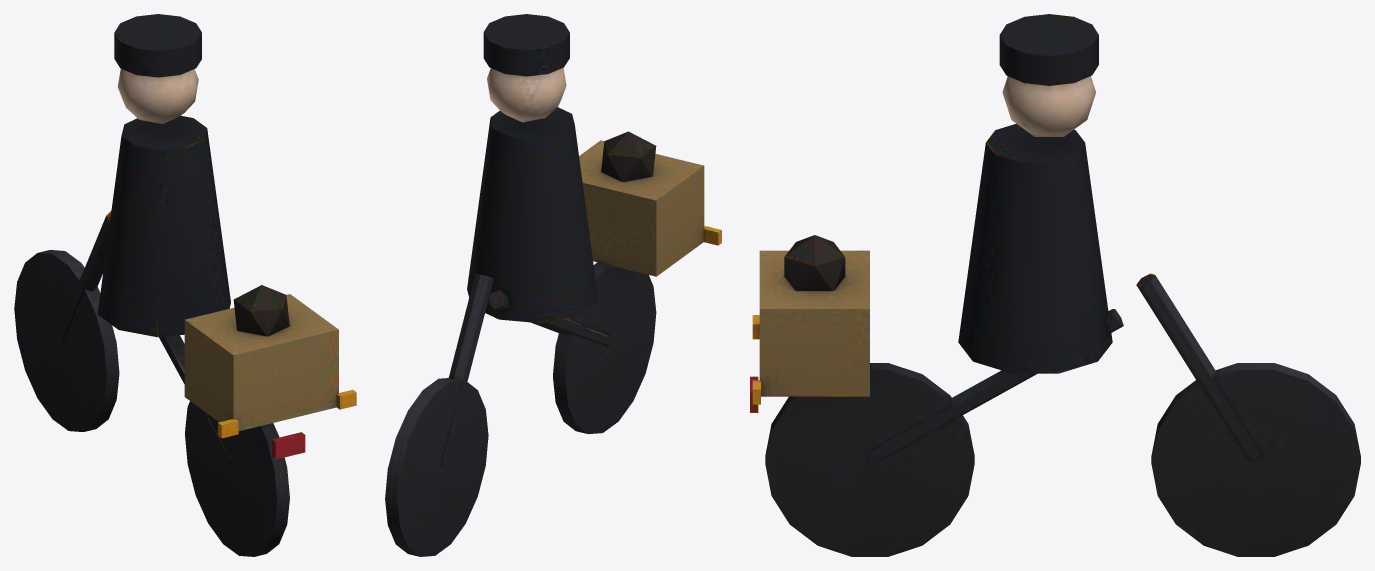
Rendered from bruja_bici.glb.
The picture shows the model from 3 angles, left to right: view 1: azimuth 30°, elevation 25°; view 2: azimuth 150°, elevation 25°; view 3: azimuth 270°, elevation 25°; orthographic projection. The views are drawn at different scales.
Visible parts, largest first — view 1: bruja_bici; view 2: bruja_bici; view 3: bruja_bici.
Boxes of the visible parts, <box> form: bruja_bici: <box>14,14,356,556</box>; bruja_bici: <box>385,14,721,556</box>; bruja_bici: <box>750,14,1360,556</box>.
Bounding box in the file's own units: 0.64 × 2.07 × 2.21.
Materials: 1 (1 with a texture image).
